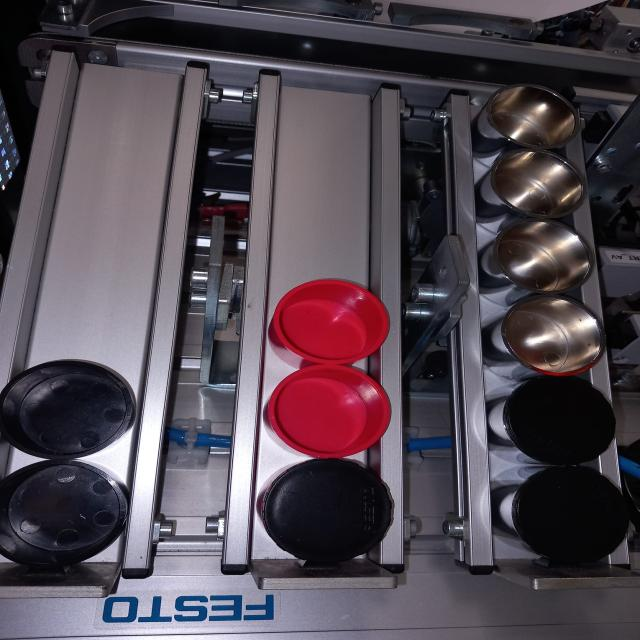NoLid: (0, 352, 136, 457), (1, 458, 130, 566), (262, 361, 396, 454), (262, 273, 391, 364), (483, 296, 614, 378), (480, 219, 600, 295), (482, 148, 593, 220), (481, 92, 578, 150)
Workpiece: (262, 456, 398, 574), (492, 468, 636, 568), (488, 374, 624, 468)
